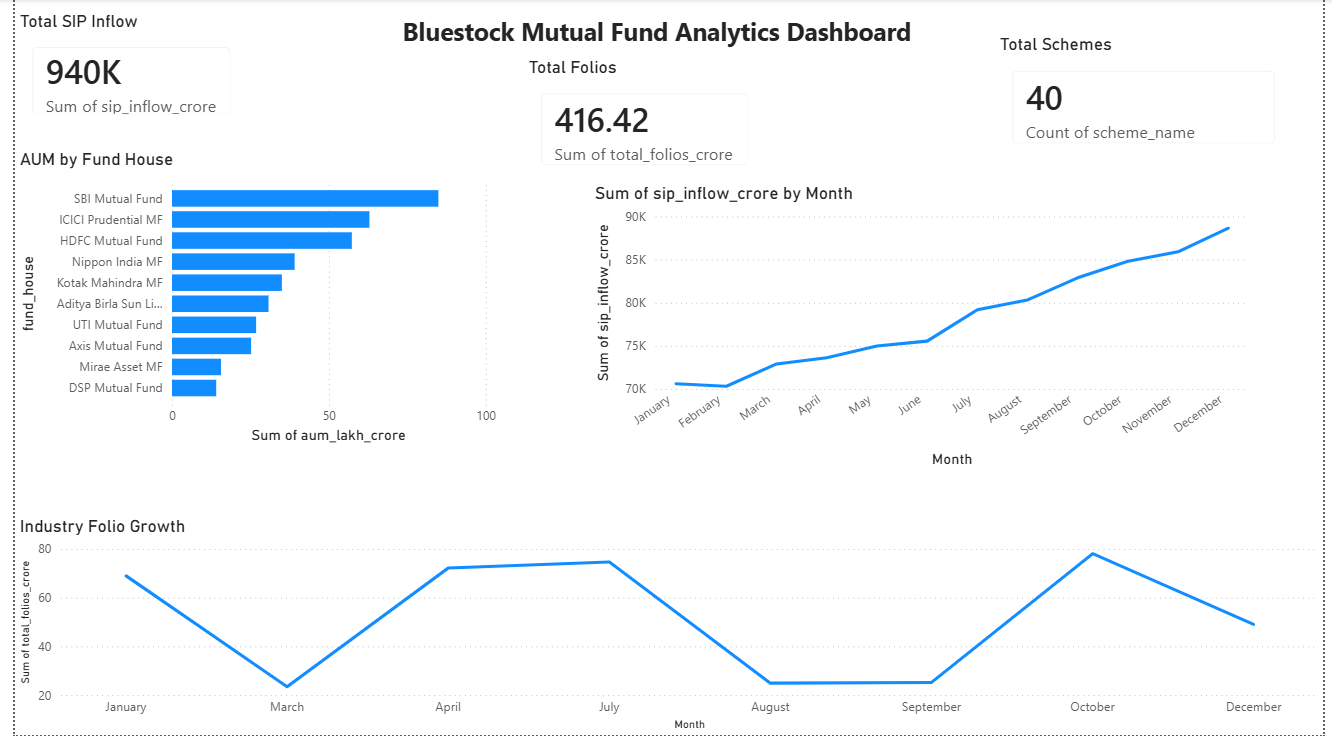

This screenshot's page, from the dashboard's own definition file:
{"tool":"powerbi","page":{"name":"Executive Summary","canvas":[1280,720],"ordinal":0},"visuals":[{"type":"clusteredBarChart","title":"AUM by Fund House","fields":{"Category":["03_aum_by_fund_house.fund_house"],"Y":["Sum(03_aum_by_fund_house.aum_lakh_crore)"]},"box":[0,146.7,475.7,293.5],"z":0},{"type":"lineChart","title":"Industry Folio Growth","fields":{"Category":["06_industry_folio_count.month.Variation.Date Hierarchy.Month"],"Y":["Sum(06_industry_folio_count.total_folios_crore)"]},"box":[0,505.1,1280,215.9],"z":1000},{"type":"lineChart","fields":{"Category":["04_monthly_sip_inflows.month.Variation.Date Hierarchy.Month"],"Y":["Sum(04_monthly_sip_inflows.sip_inflow_crore)"]},"box":[562.5,179.8,649.3,283.7],"z":2000},{"type":"cardVisual","title":"Total SIP Inflow","fields":{"Data":["Sum(04_monthly_sip_inflows.sip_inflow_crore)"]},"box":[0,11,228.7,119.8],"z":3000},{"type":"cardVisual","title":"Total Folios","fields":{"Data":["Sum(06_industry_folio_count.total_folios_crore)"]},"box":[497.7,56.3,237.2,123.5],"z":3001},{"type":"cardVisual","title":"Total Schemes","fields":{"Data":["Count(07_scheme_performance.scheme_name)"]},"box":[958.7,34.2,291,124.7],"z":3002},{"type":"textbox","box":[374.2,11,531.9,45.2],"z":3003}]}

Visuals, with their boxes in screenshot pixels (x1, y1, x2, y2), scaled from the page's 1280x720 canvas onto the 1332x737 screenshot:
"AUM by Fund House" clusteredBarChart: bbox=[0, 150, 495, 451]
"Industry Folio Growth" lineChart: bbox=[0, 517, 1331, 736]
lineChart - 04_monthly_sip_inflows.month.Variation.Date Hierarchy.Month x Sum(04_monthly_sip_inflows.sip_inflow_crore): bbox=[585, 184, 1261, 474]
"Total SIP Inflow" cardVisual: bbox=[0, 11, 238, 134]
"Total Folios" cardVisual: bbox=[518, 58, 765, 184]
"Total Schemes" cardVisual: bbox=[998, 35, 1300, 163]
textbox: bbox=[389, 11, 943, 58]
